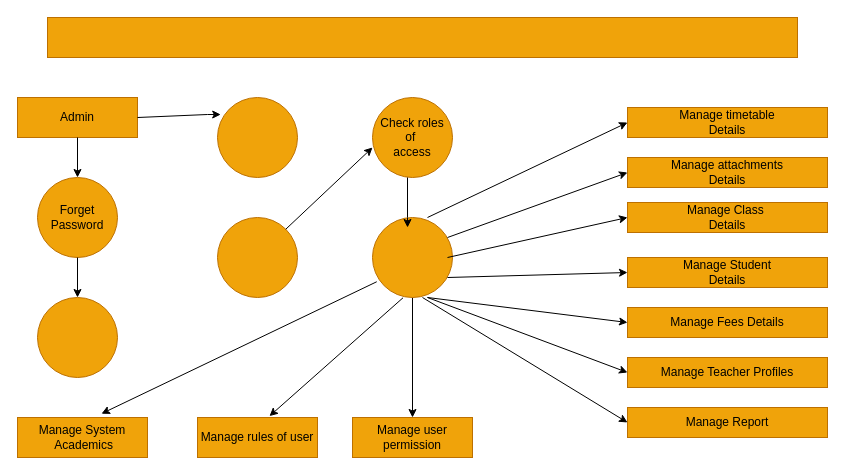
The diagram is 845 pixels wide and 475 high, and some of its shapes have lost their labels. The shapes that lost their labels are listed below. From the top down, each one's box as (x1, y1, x2, y2) in pixels, then its label:
(46, 16, 798, 58): Student Information System
(216, 96, 298, 178): Login to system
(216, 216, 298, 298): Check credentials
(372, 216, 452, 298): Manage modules
(36, 296, 118, 378): Send email to user
